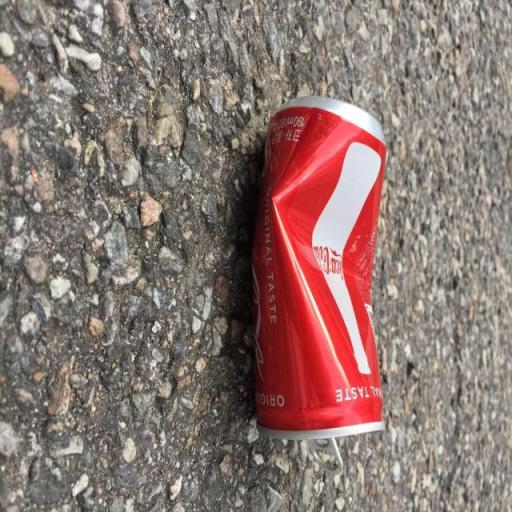metal: (237, 58, 419, 474)
